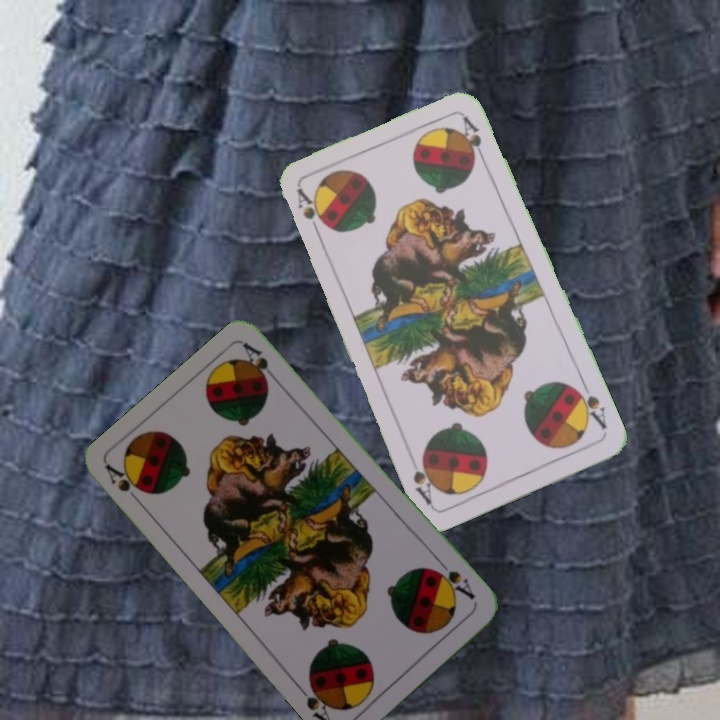SA: (102, 461, 151, 510), (569, 378, 609, 432), (292, 184, 327, 241), (428, 564, 478, 603)
